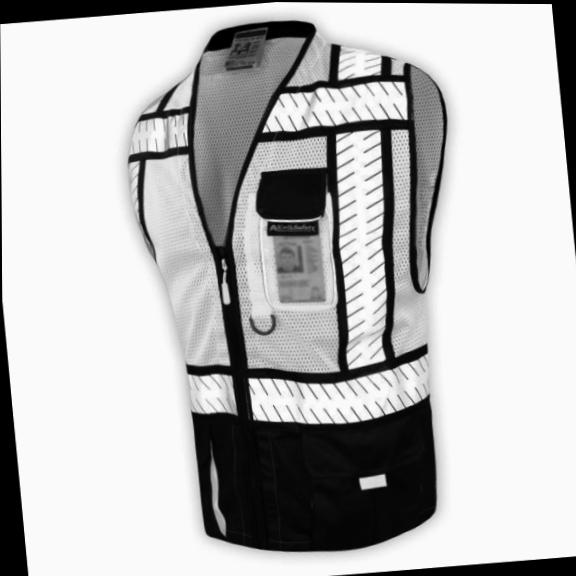safety_vest: (113, 7, 489, 568)
